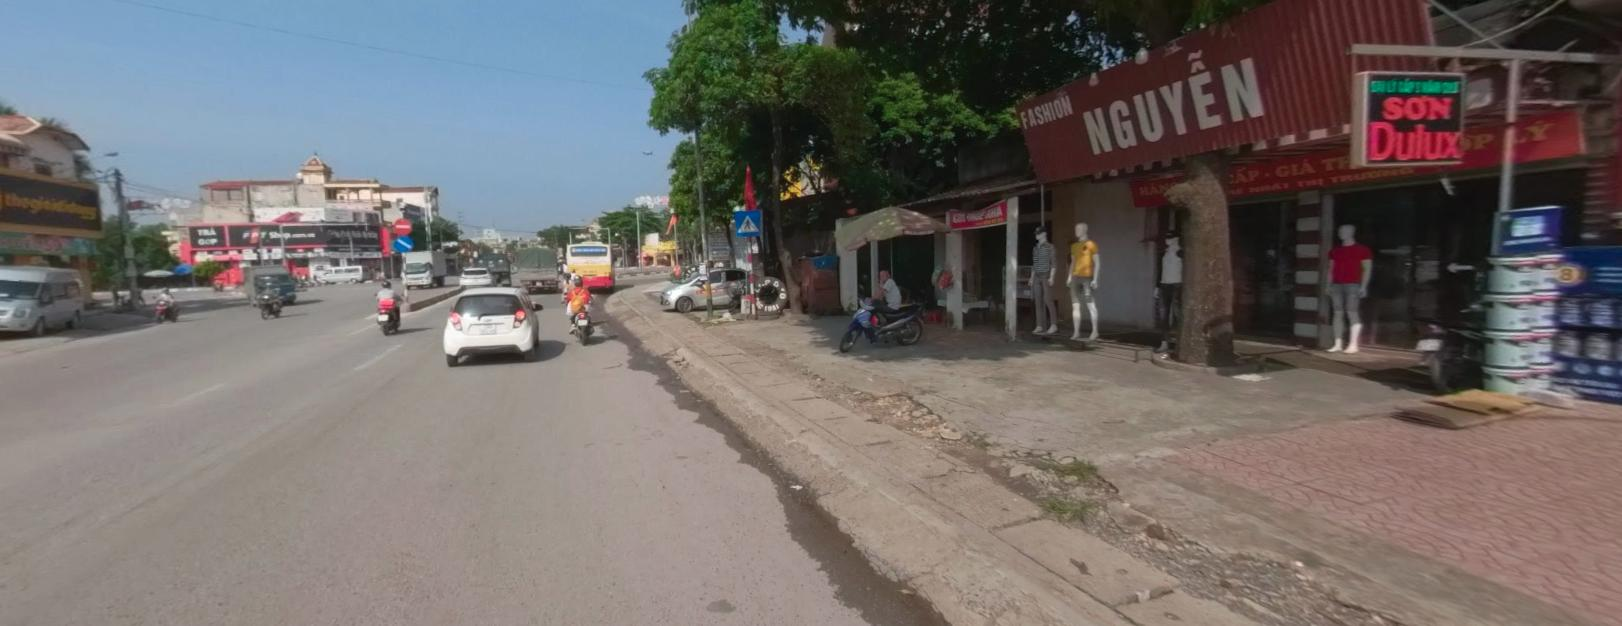Cam nguoc chieu: (394, 216, 413, 233), (393, 217, 411, 233)
Hieu lenh: (393, 234, 414, 251), (394, 235, 413, 251)
